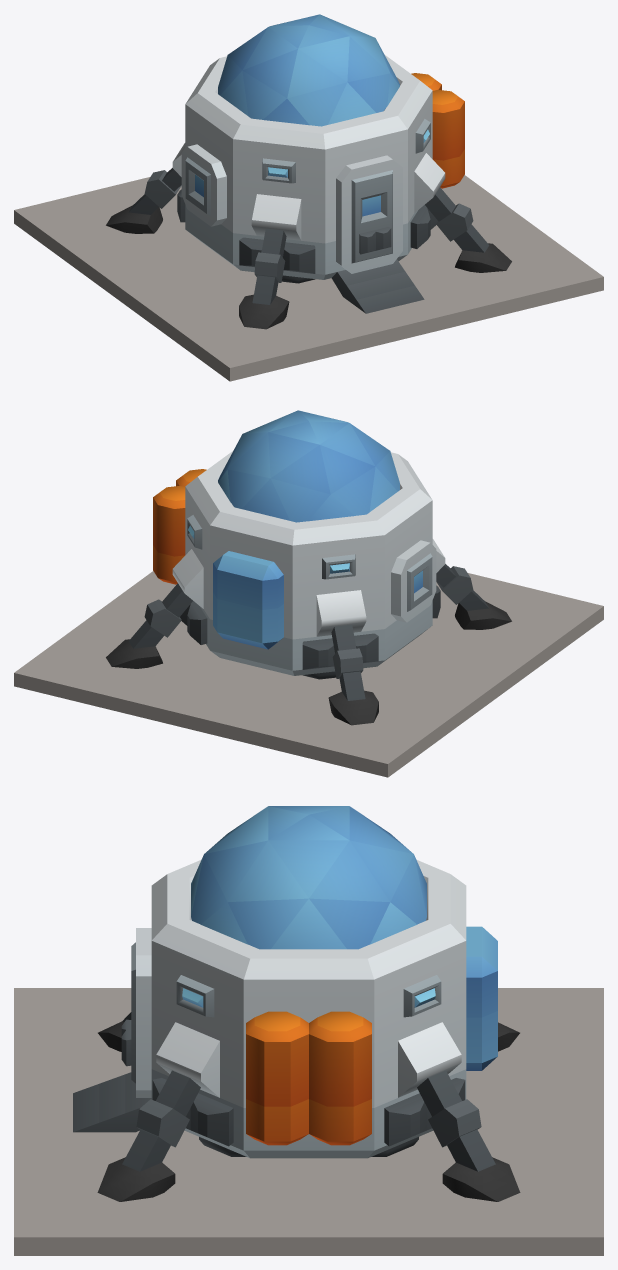
Rendered from lander.glb.
3 views of the same model, one above another, from view 1: azimuth 30°, elevation 25°; view 2: azimuth 150°, elevation 25°; view 3: azimuth 270°, elevation 25° (orthographic). The views are drawn at different scales.
Visible parts, largest first — view 1: Lander; view 2: Lander; view 3: Lander.
Boxes of the visible parts, bbox=[...] form: Lander: bbox=[14, 14, 603, 381]; Lander: bbox=[14, 410, 603, 777]; Lander: bbox=[14, 806, 603, 1255].
Size of the model in its own units: 0.29 by 0.1717 by 0.29.
1 material, 1 textured.
